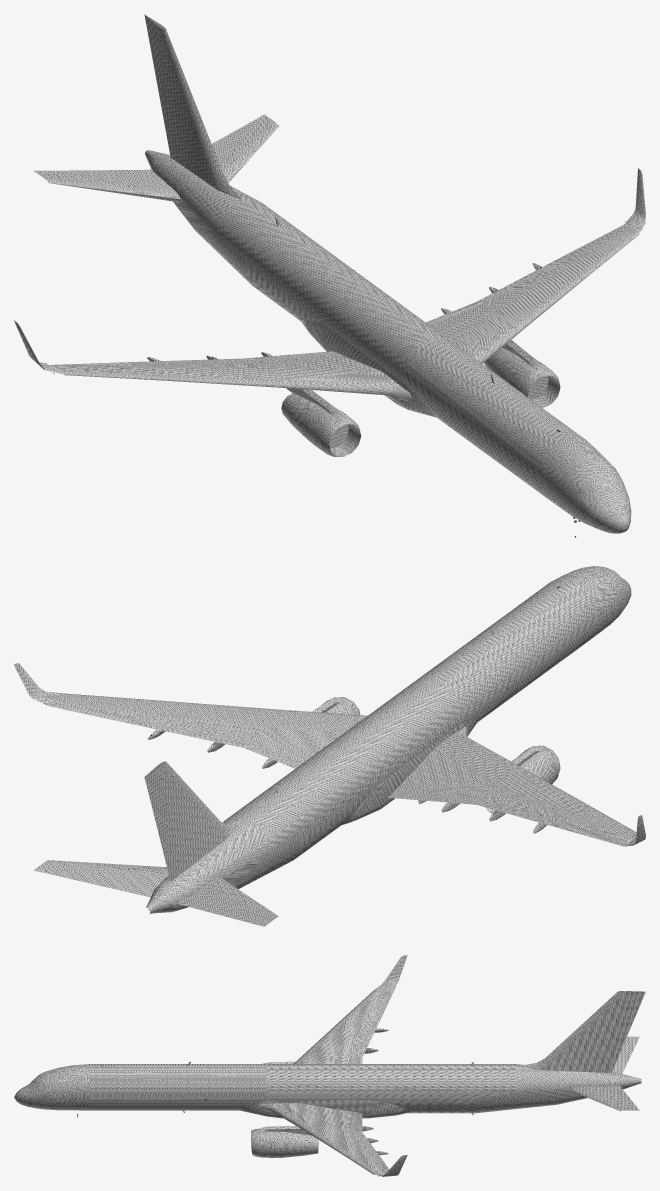
The model's file is AIG_B757-300_RR_W_LOD1.gltf.
The picture shows the model from 3 angles, top to bottom: view 1: azimuth 30°, elevation 25°; view 2: azimuth 150°, elevation 25°; view 3: azimuth 270°, elevation 25°; orthographic projection. The views are drawn at different scales.
Parts seen in each view (by area): view 1: fuselage_RR_low_LOD; view 2: fuselage_RR_low_LOD; view 3: fuselage_RR_low_LOD.
Boxes of the visible parts, x1,y1,x2,y2 form: fuselage_RR_low_LOD: (14,14,645,533); fuselage_RR_low_LOD: (14,566,645,926); fuselage_RR_low_LOD: (14,955,645,1176).
Size of the model in its own units: 40.89 by 12.97 by 54.48.
